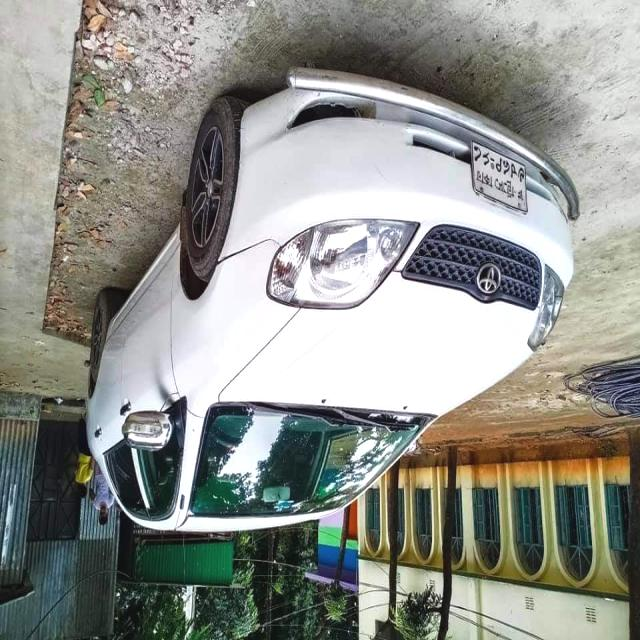white: (76, 91, 582, 532)
